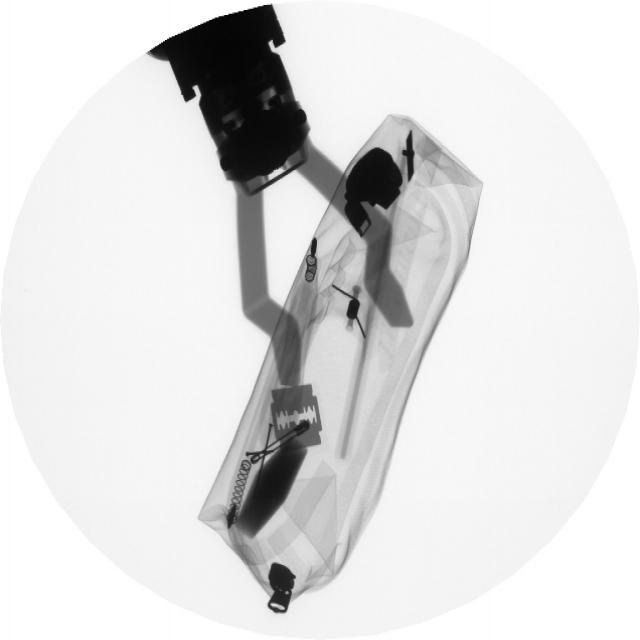BLADE: (258, 376, 330, 468)
